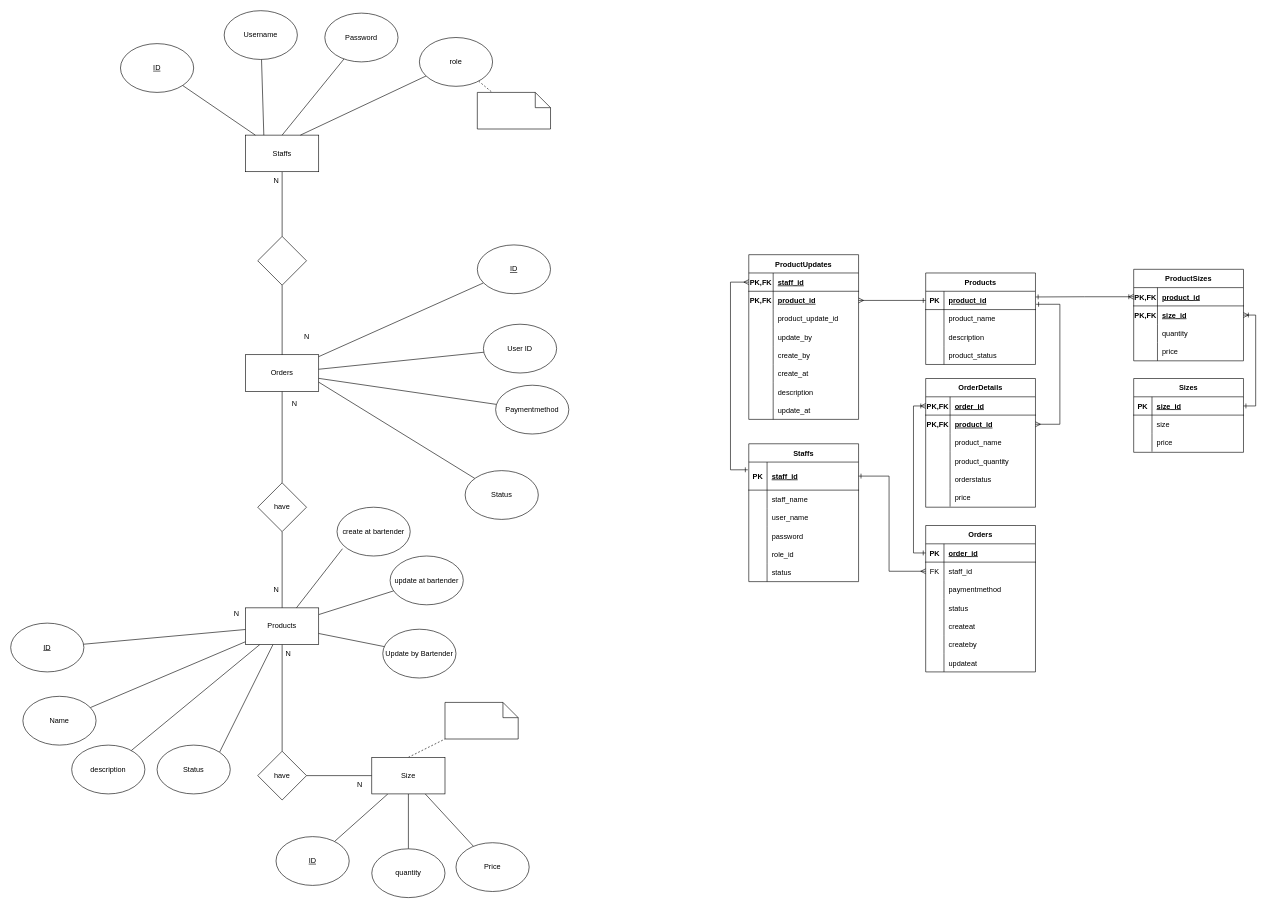
The diagram is 1272 pixels wide and 908 high, and some of its shapes have lost their labels. Each missing label, with the centre of its shape:
1: Bartender 2: Cashier: (514,110)
processing: (282,260)
Size S,M,L: (481,720)
